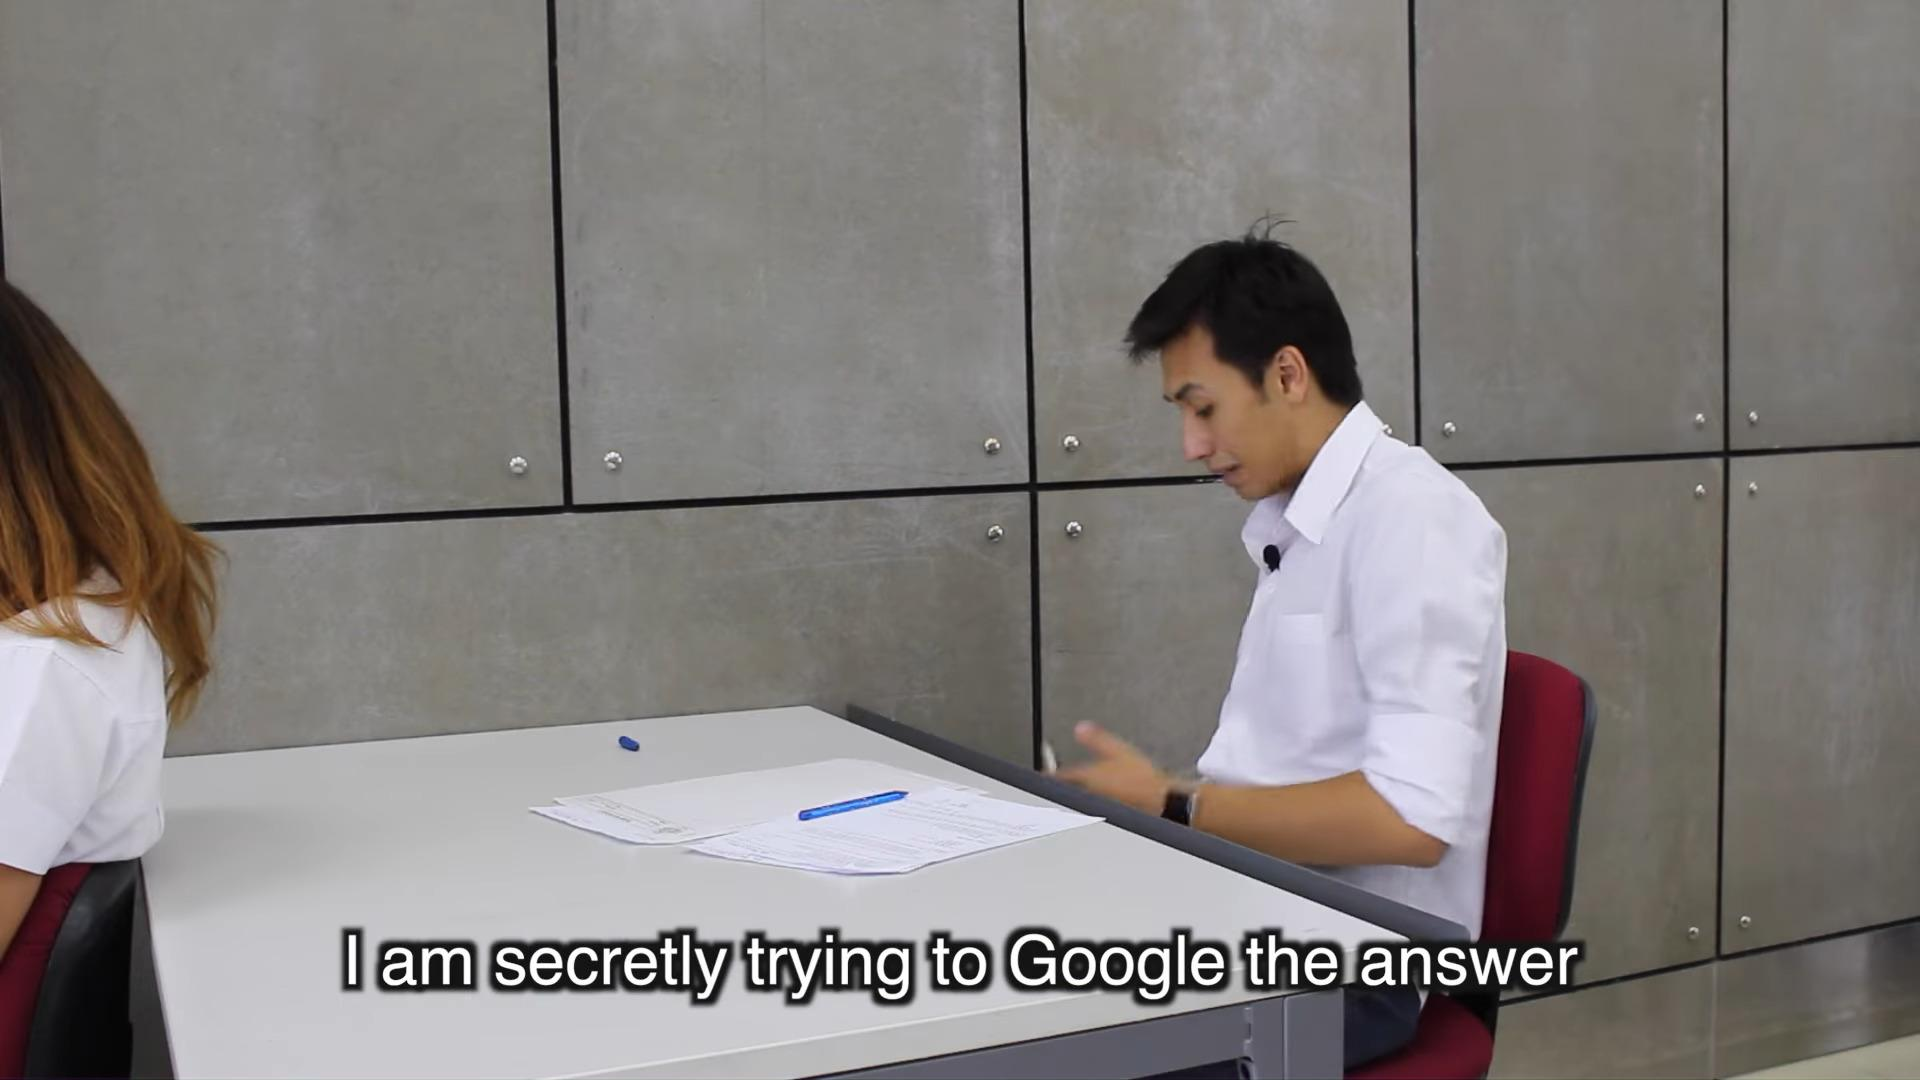cheating: (502, 206, 1543, 915)
